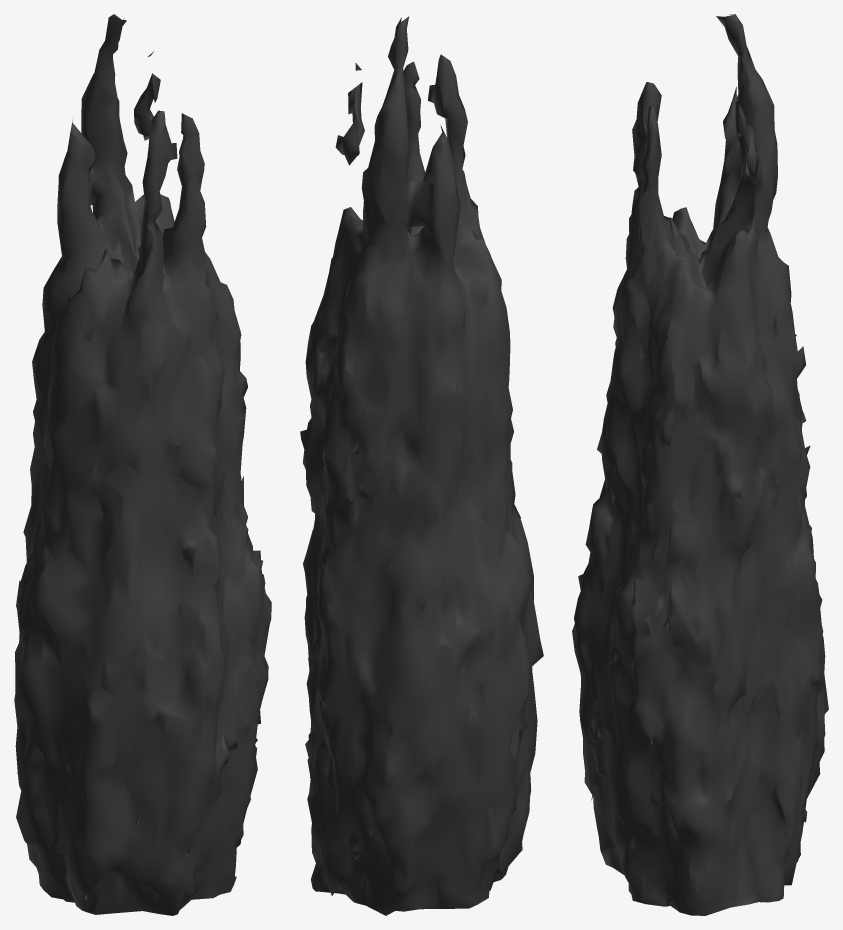
Rendered from shoot-2.glb.
3 renders of one model, left to right at view 1: azimuth 30°, elevation 25°; view 2: azimuth 150°, elevation 25°; view 3: azimuth 270°, elevation 25°, orthographic.
Parts seen in each view (by area): view 1: geometry_0; view 2: geometry_0; view 3: geometry_0.
Part boxes in pixels (<box>): geometry_0: <box>14,14,271,915</box>; geometry_0: <box>300,16,543,915</box>; geometry_0: <box>572,14,828,915</box>.
Bounding box in the file's own units: 0.2763 × 1 × 0.2724.
1 material, 1 textured.
